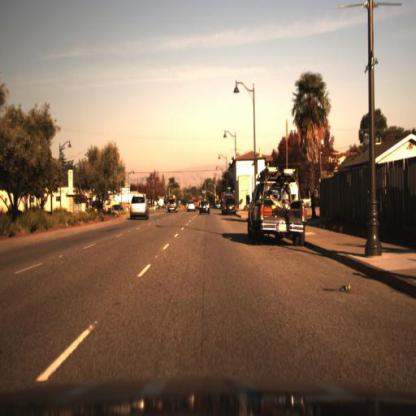car: (244, 160, 308, 249), (122, 186, 152, 224), (219, 189, 240, 221), (165, 194, 182, 218), (197, 194, 214, 218), (185, 197, 198, 217)
